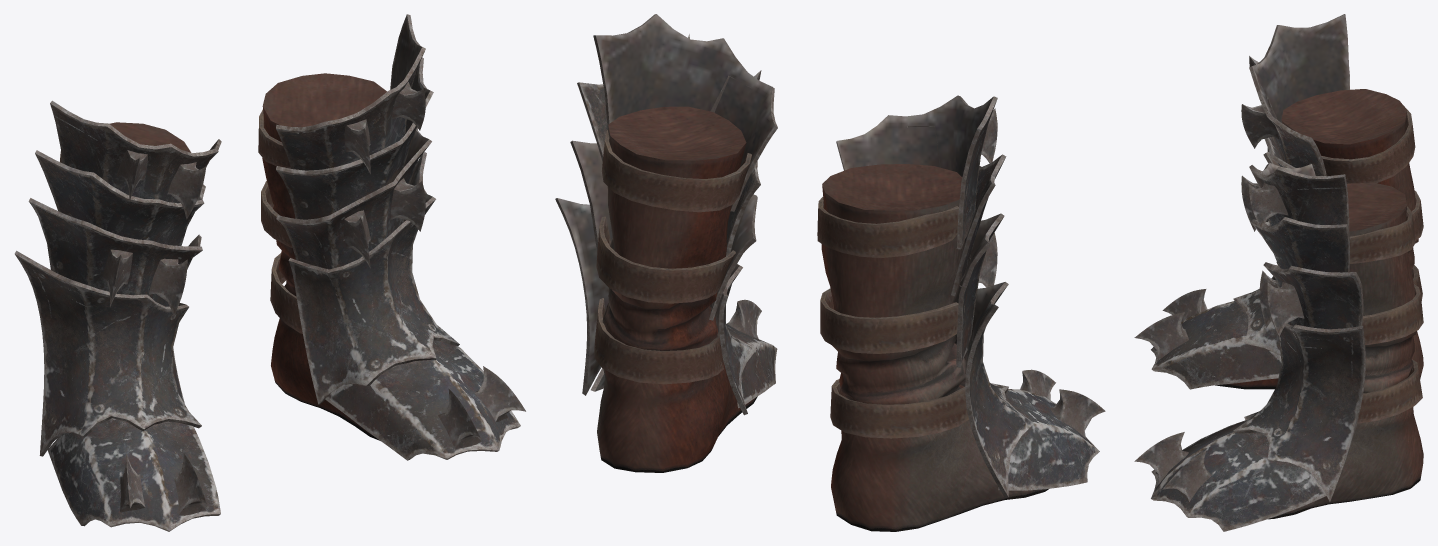
Rendered from sk_dg_uruk_boots_lord_d.fbx.
3 renders of one model, left to right at view 1: azimuth 30°, elevation 25°; view 2: azimuth 150°, elevation 25°; view 3: azimuth 270°, elevation 25°, orthographic. The views are drawn at different scales.
Visible parts, largest first — view 1: sk_dg_uruk_boots_lord_d.0, sk_dg_uruk_boots_lord_d.1; view 2: sk_dg_uruk_boots_lord_d.0, sk_dg_uruk_boots_lord_d.1; view 3: sk_dg_uruk_boots_lord_d.0, sk_dg_uruk_boots_lord_d.1.
Part boxes in pixels (x1,y1,x2,y2): sk_dg_uruk_boots_lord_d.0: (14,14,520,531); sk_dg_uruk_boots_lord_d.1: (60,82,525,515); sk_dg_uruk_boots_lord_d.0: (555,14,1099,531); sk_dg_uruk_boots_lord_d.1: (594,34,1105,438); sk_dg_uruk_boots_lord_d.0: (1151,14,1423,531); sk_dg_uruk_boots_lord_d.1: (1134,56,1423,501).
Size of the model in its own units: 0.5936 by 0.3753 by 0.4894.
2 materials, 2 textured.
